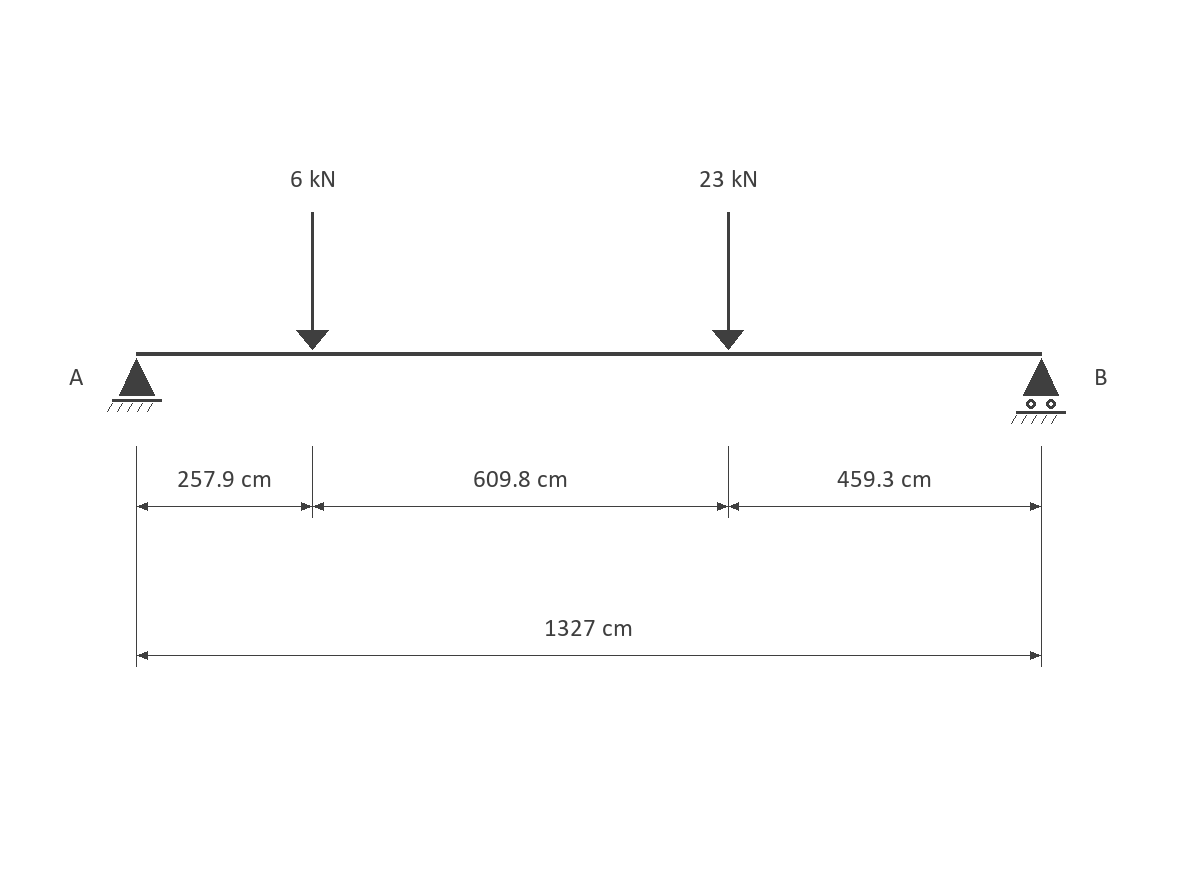pin_support: (107, 358, 162, 412)
point_load: (296, 212, 329, 350), (712, 212, 744, 350)
roller_support: (1011, 358, 1066, 424)
